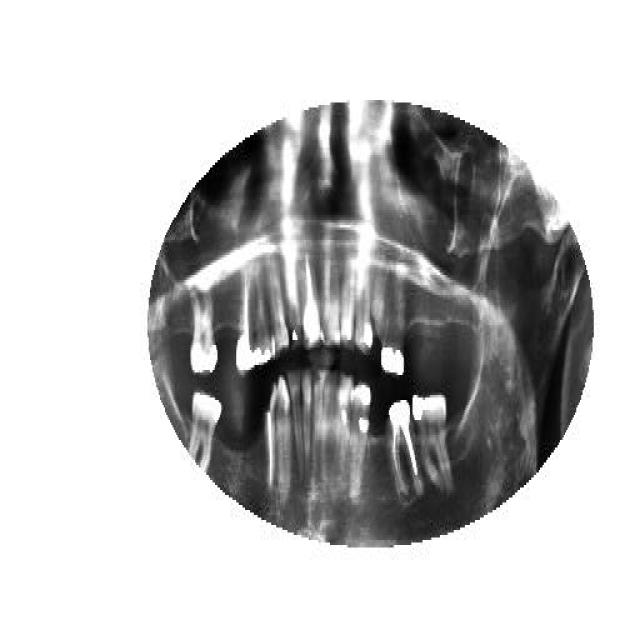Cavity: (264, 378, 278, 492)
Fillings: (414, 390, 451, 490), (348, 375, 372, 503), (188, 292, 222, 378), (256, 262, 278, 372), (381, 285, 405, 375), (355, 270, 377, 358)
Implant: (385, 400, 419, 515), (234, 268, 258, 378), (302, 250, 324, 350)
